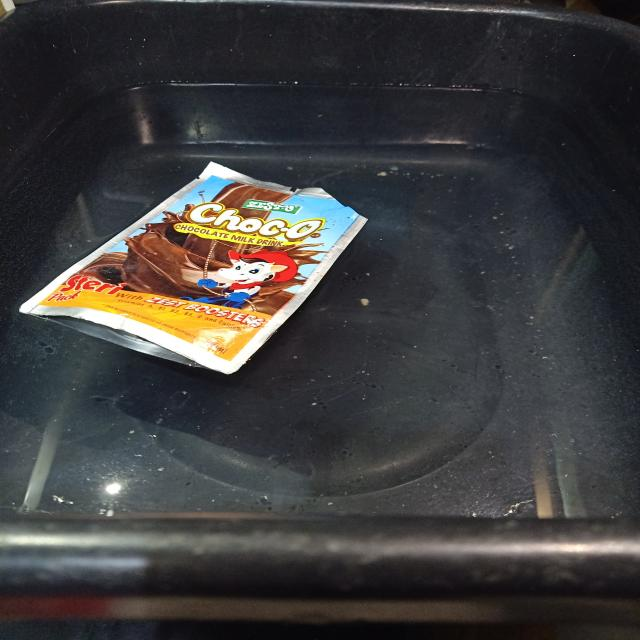Plastic Pouch: (21, 164, 361, 373)
